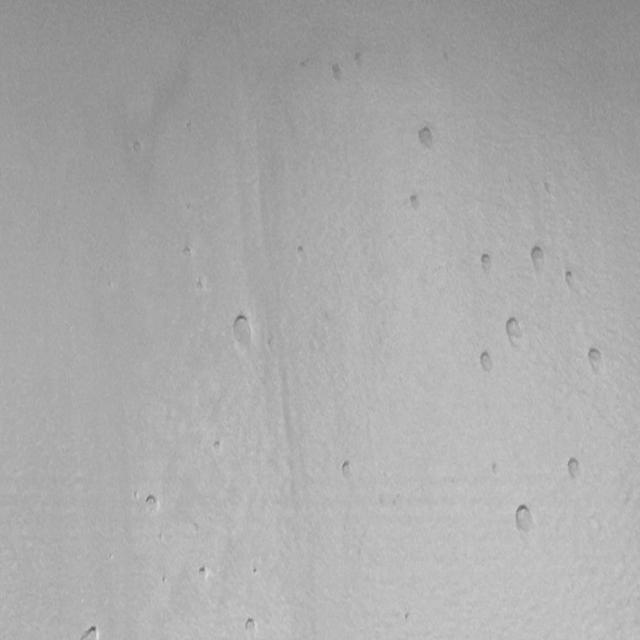pin holes: (228, 312, 256, 350), (513, 502, 540, 539), (501, 313, 528, 349), (414, 123, 438, 153), (585, 347, 608, 377), (529, 244, 551, 275), (563, 454, 584, 484), (476, 350, 498, 378), (476, 250, 497, 277), (405, 190, 426, 216), (326, 61, 346, 88), (338, 457, 358, 481), (79, 622, 105, 640), (351, 49, 370, 72), (127, 138, 147, 158), (565, 269, 581, 293), (241, 616, 258, 638), (145, 494, 162, 516), (295, 241, 310, 261), (490, 461, 506, 478), (194, 276, 209, 294), (196, 566, 212, 582), (182, 243, 197, 260), (213, 439, 226, 455), (132, 486, 142, 505), (251, 565, 263, 580), (160, 574, 171, 589)
